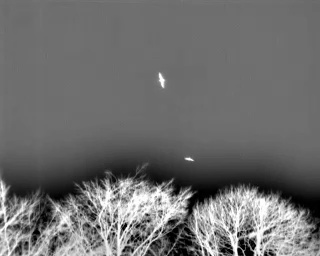BIRD: (183, 154, 196, 165)
